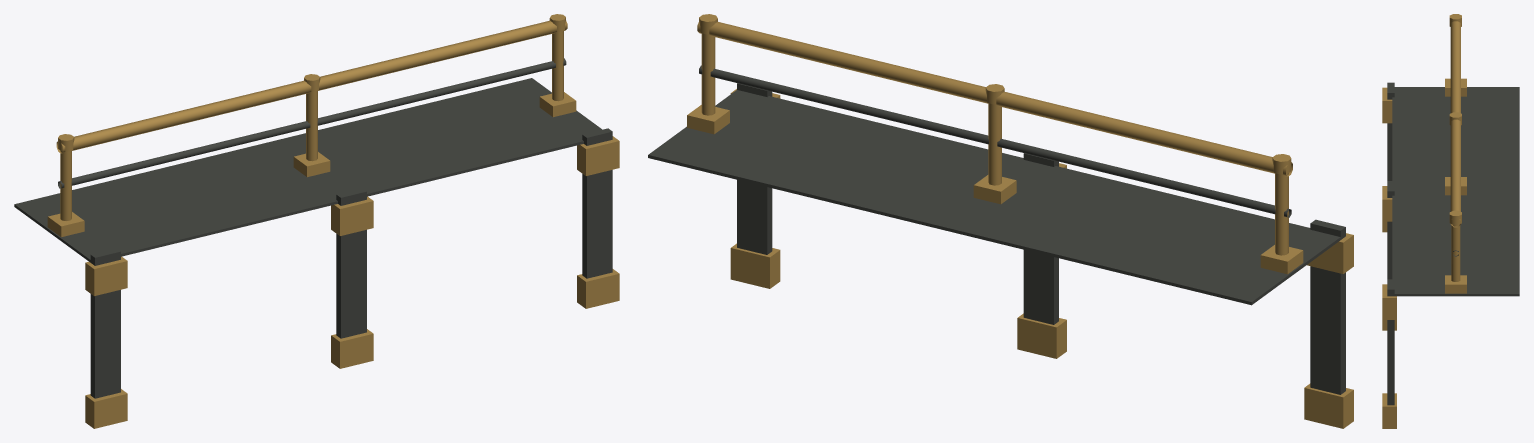
File: parapet_rail_4.glb
3 renders of one model, left to right at view 1: azimuth 30°, elevation 25°; view 2: azimuth 150°, elevation 25°; view 3: azimuth 270°, elevation 25°, orthographic. The views are drawn at different scales.
Parts seen in each view (by area): view 1: parapet_rail_4; view 2: parapet_rail_4; view 3: parapet_rail_4.
Part boxes in pixels (<box>): parapet_rail_4: <box>14,14,619,428</box>; parapet_rail_4: <box>648,14,1353,428</box>; parapet_rail_4: <box>1382,14,1519,428</box>.
Bounding box in the file's own units: 4.06 × 1.88 × 1.12.
